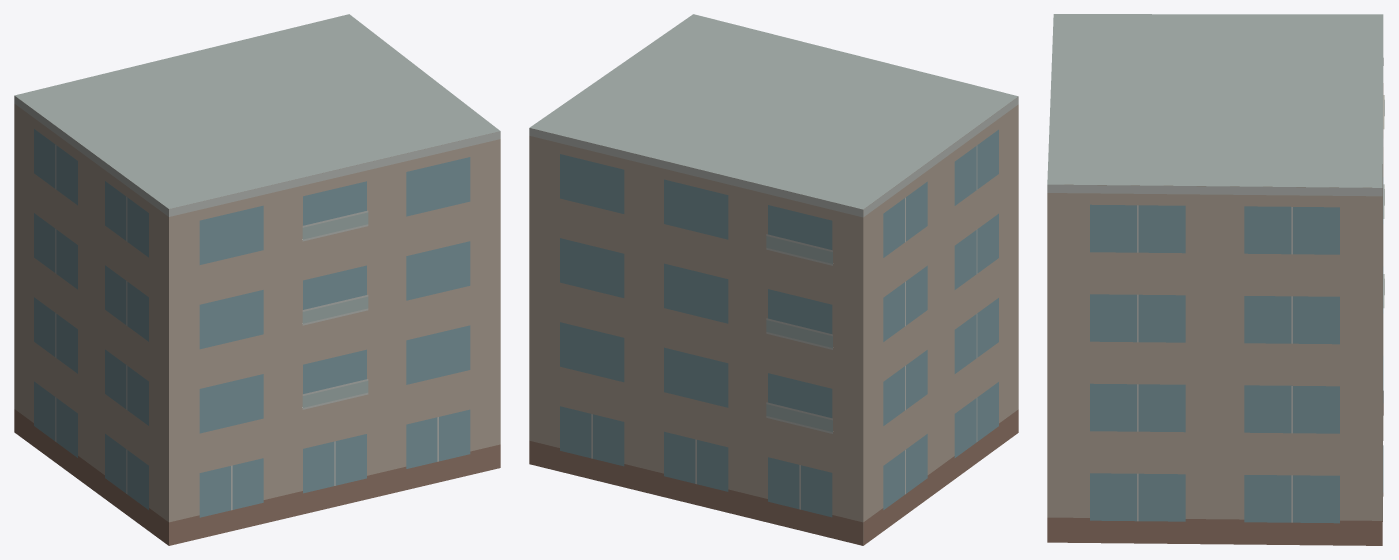
Rendered from survey-upis-32748782.glb.
3 views of the same model, side by side, from view 1: azimuth 30°, elevation 25°; view 2: azimuth 150°, elevation 25°; view 3: azimuth 270°, elevation 25° (orthographic). The views are drawn at different scales.
Parts seen in each view (by area): view 1: survey-upis-32748782.tmp; view 2: survey-upis-32748782.tmp; view 3: survey-upis-32748782.tmp.
Boxes of the visible parts, <box> form: survey-upis-32748782.tmp: <box>14,14,500,545</box>; survey-upis-32748782.tmp: <box>529,14,1018,545</box>; survey-upis-32748782.tmp: <box>1047,14,1384,545</box>.
Bounding box in the file's own units: 10.79 × 10.35 × 8.85.
